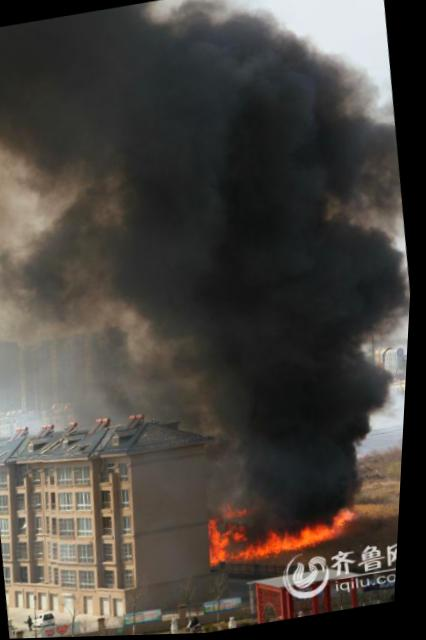fire: (282, 525, 340, 551), (230, 537, 287, 563), (208, 514, 233, 567), (227, 523, 250, 546), (335, 510, 358, 529)
